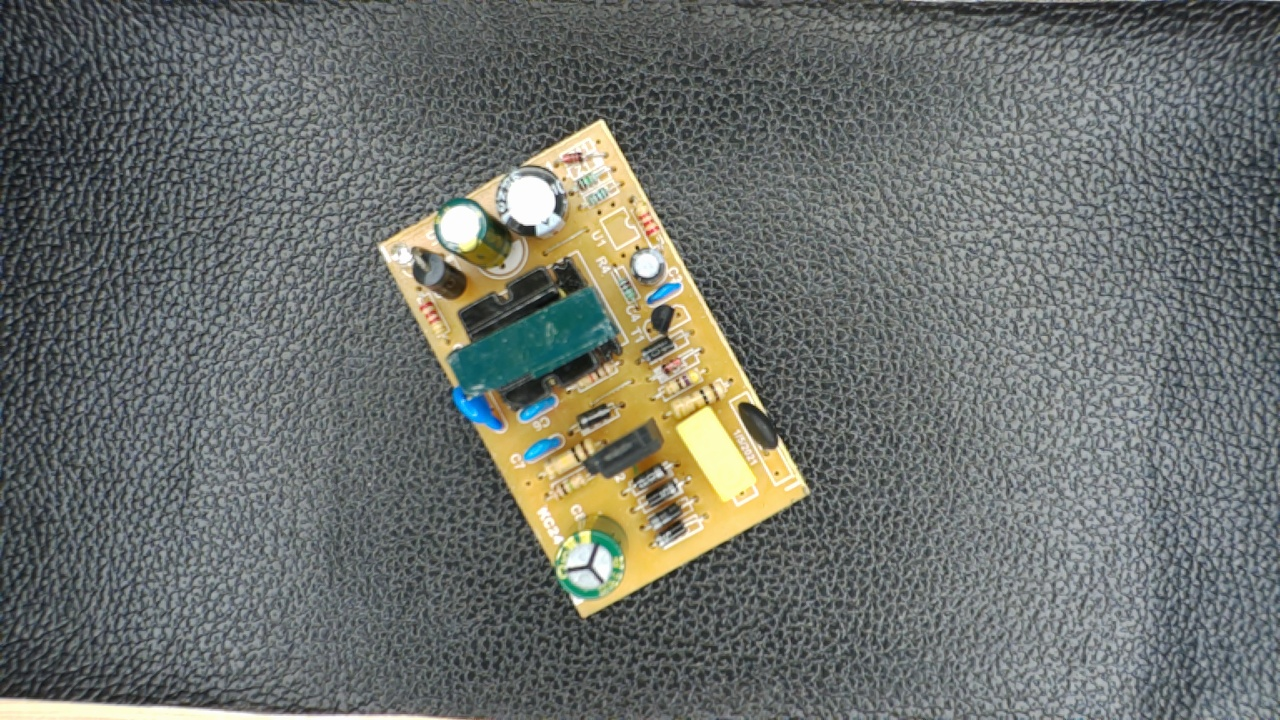fuse: (732, 393, 783, 464)
hv_capacitor: (549, 512, 629, 603)
mov: (447, 380, 510, 435)
